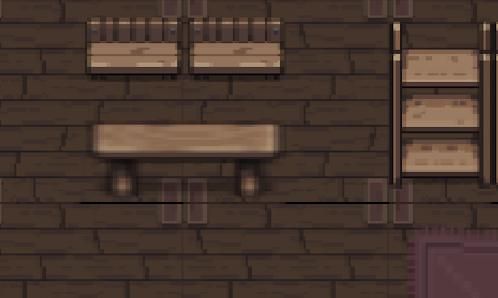Obstacle: (77, 108, 302, 213), (374, 15, 498, 191), (185, 6, 294, 85), (82, 10, 184, 87)
